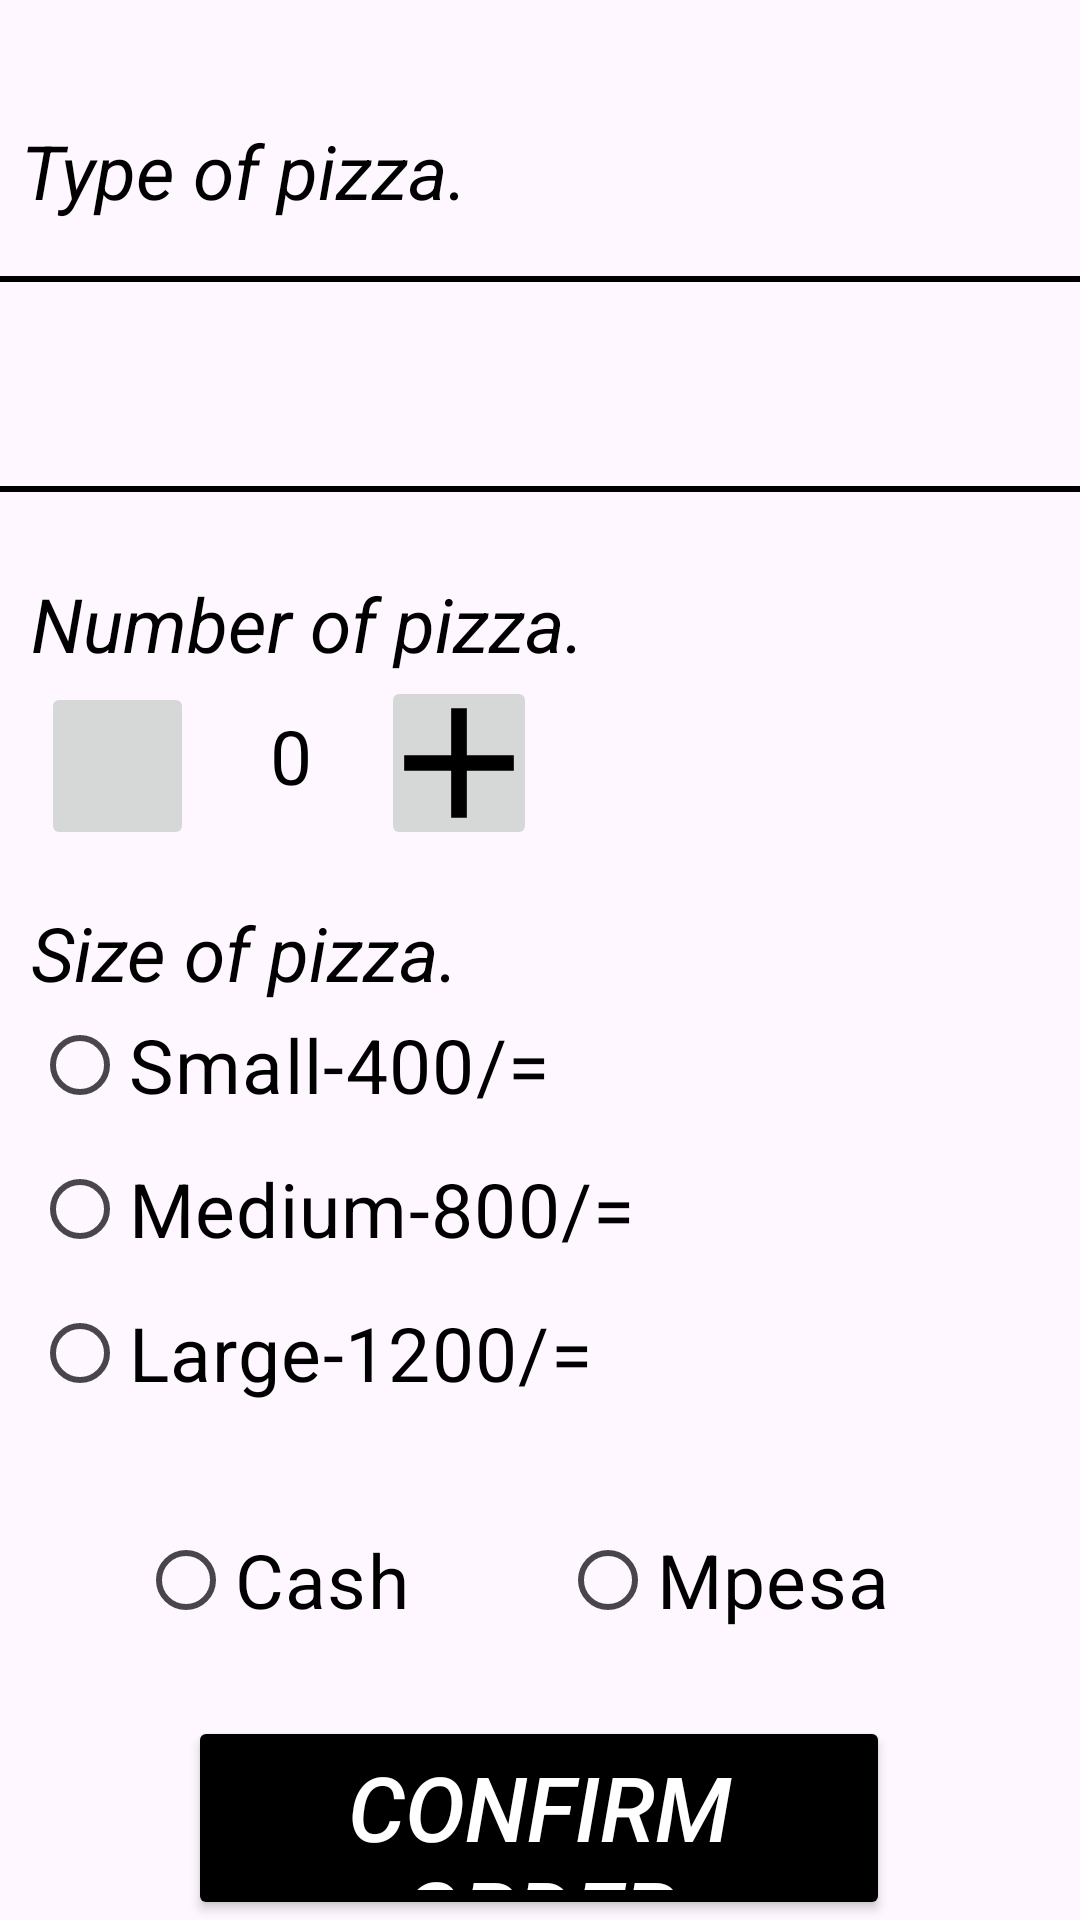

Named icons in this screenshot (1080 × 1920) and their centers, [x,y]:
increment: [459,763]
